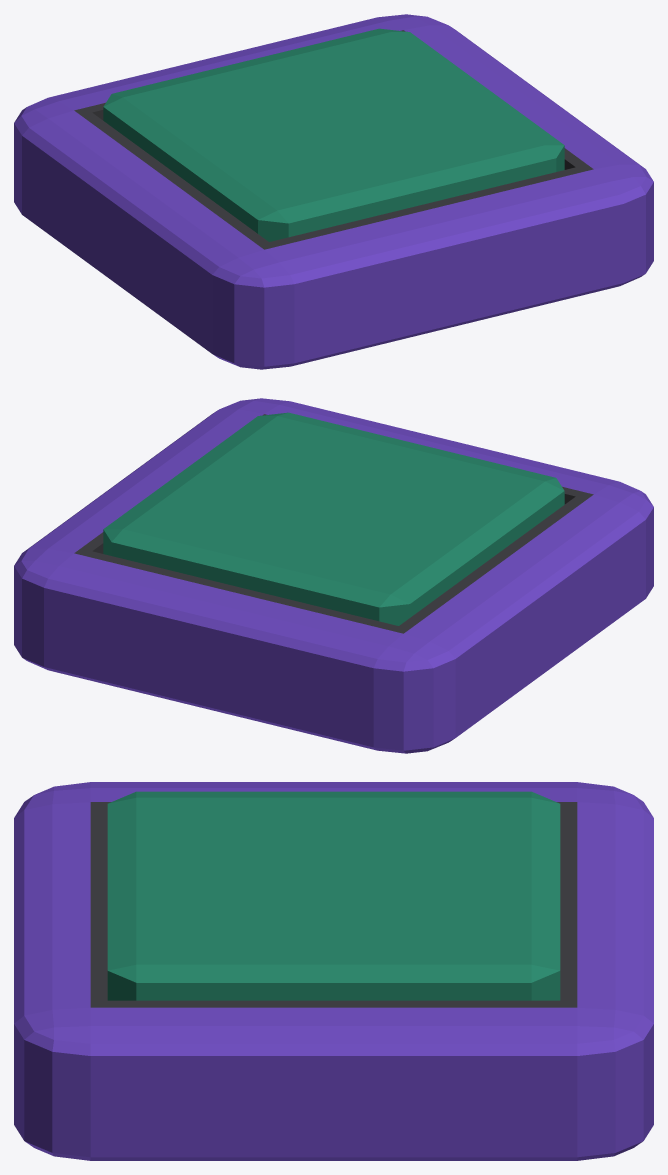
File: PlataformButtom.glb
The picture shows the model from 3 angles, top to bottom: view 1: azimuth 30°, elevation 25°; view 2: azimuth 150°, elevation 25°; view 3: azimuth 270°, elevation 25°; orthographic projection. The views are drawn at different scales.
Parts seen in each view (by area): view 1: Cube, Cube.001; view 2: Cube, Cube.001; view 3: Cube, Cube.001.
Part boxes in pixels (left/top/right/bottom): Cube: left=14, top=14, right=653, bottom=369; Cube.001: left=103, top=28, right=564, bottom=241; Cube: left=14, top=398, right=653, bottom=753; Cube.001: left=103, top=412, right=564, bottom=625; Cube: left=14, top=782, right=653, bottom=1160; Cube.001: left=107, top=791, right=560, bottom=1000.
Bounding box in the file's own units: 6.35 × 1.72 × 6.35.
